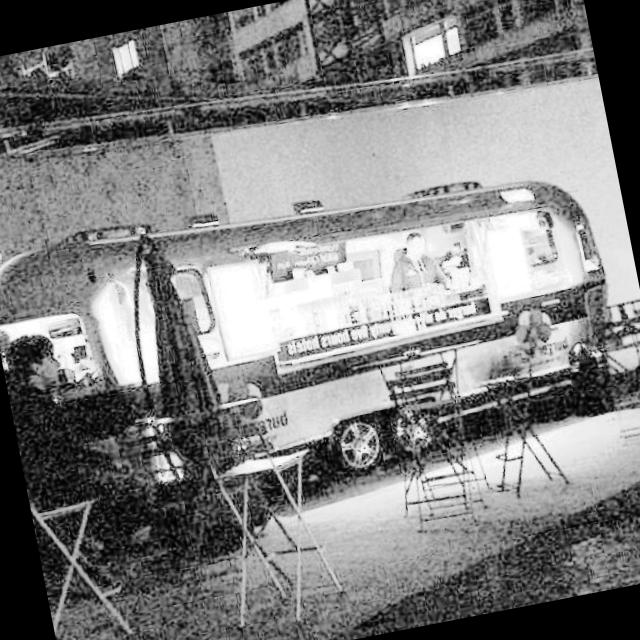Bus: (0, 133, 634, 542)
